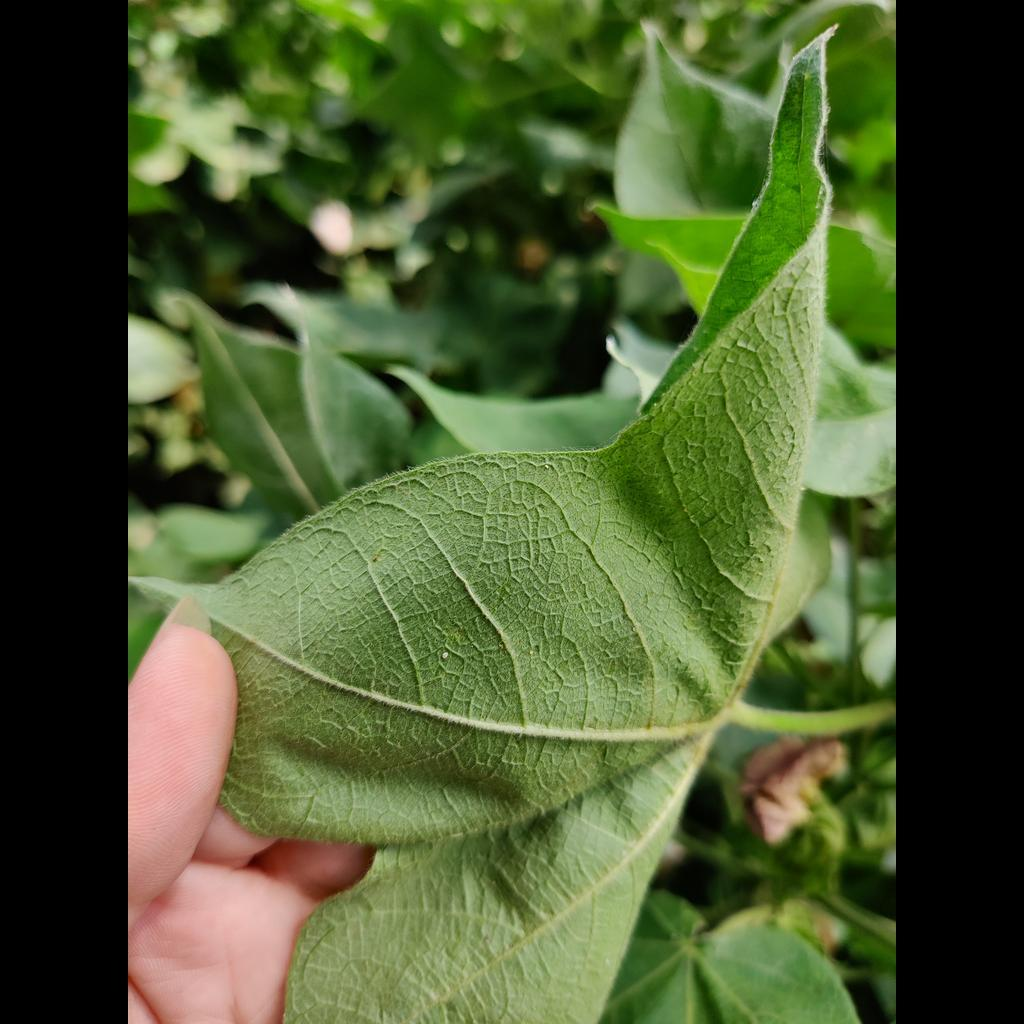nymph: (441, 652, 448, 659)
